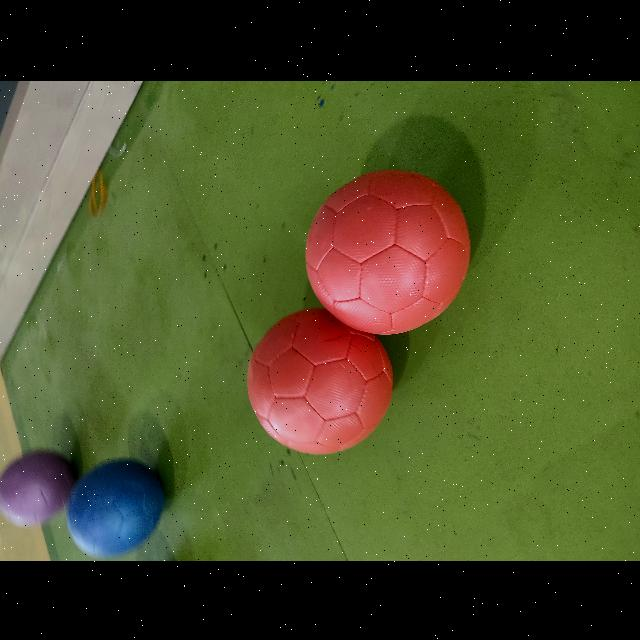B: (66, 459, 164, 557)
P: (0, 451, 74, 525)
R: (306, 169, 468, 333), (248, 308, 392, 452)
